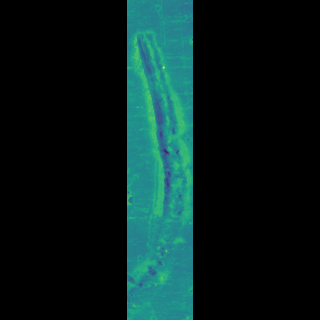Loch: (153, 28, 166, 320)
